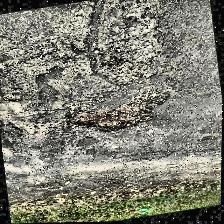pothole: (66, 89, 176, 143)
